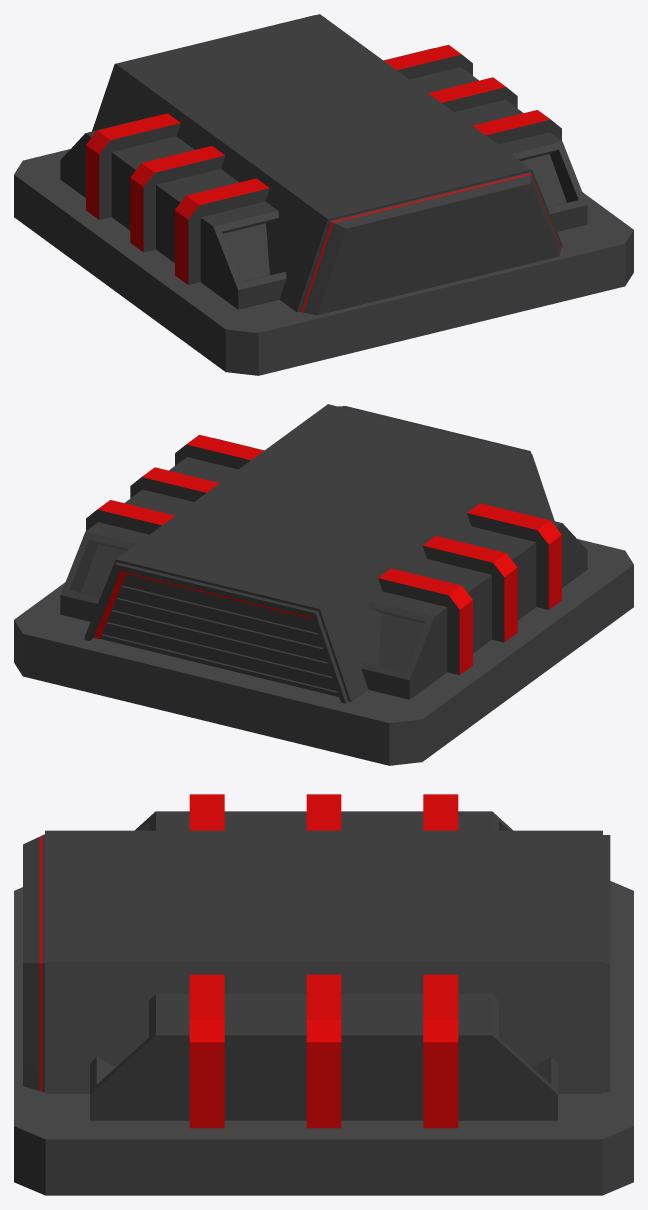
File: MCU.glb
3 renders of one model, top to bottom at view 1: azimuth 30°, elevation 25°; view 2: azimuth 150°, elevation 25°; view 3: azimuth 270°, elevation 25°, orthographic. The views are drawn at different scales.
Parts seen in each view (by area): view 1: Base, Plate, Detail; view 2: Base, Plate, Detail; view 3: Base, Detail, Plate.
Boxes of the visible parts, <box> form: Base: <box>92,14,563,315</box>; Plate: <box>14,149,633,375</box>; Detail: <box>60,45,587,309</box>; Base: <box>84,404,554,703</box>; Plate: <box>14,539,633,765</box>; Detail: <box>60,435,587,699</box>; Base: <box>23,830,610,1093</box>; Detail: <box>90,794,557,1128</box>; Plate: <box>14,881,633,1195</box>.
Bounding box in the file's own units: 4 × 1.24 × 4.
